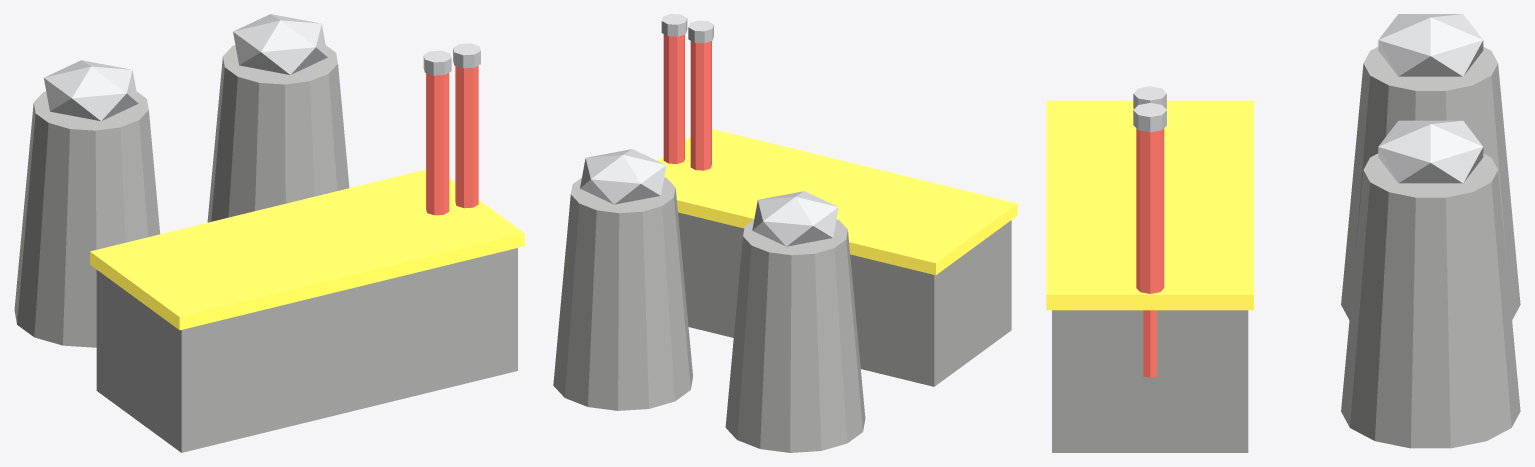
The model's file is power.glb.
The picture shows the model from 3 angles, left to right: view 1: azimuth 30°, elevation 25°; view 2: azimuth 150°, elevation 25°; view 3: azimuth 270°, elevation 25°; orthographic projection. The views are drawn at different scales.
Visible parts, largest first — view 1: power; view 2: power; view 3: power.
Part boxes in pixels (x1,y1,x2,y2): power: [14, 14, 524, 452]; power: [553, 14, 1017, 452]; power: [1046, 14, 1520, 452].
Bounding box in the file's own units: 1.64 × 1.33 × 1.69.
